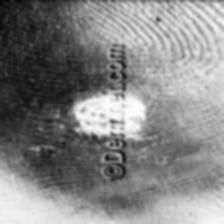Toxin: (74, 95, 108, 137), (123, 94, 147, 136)
